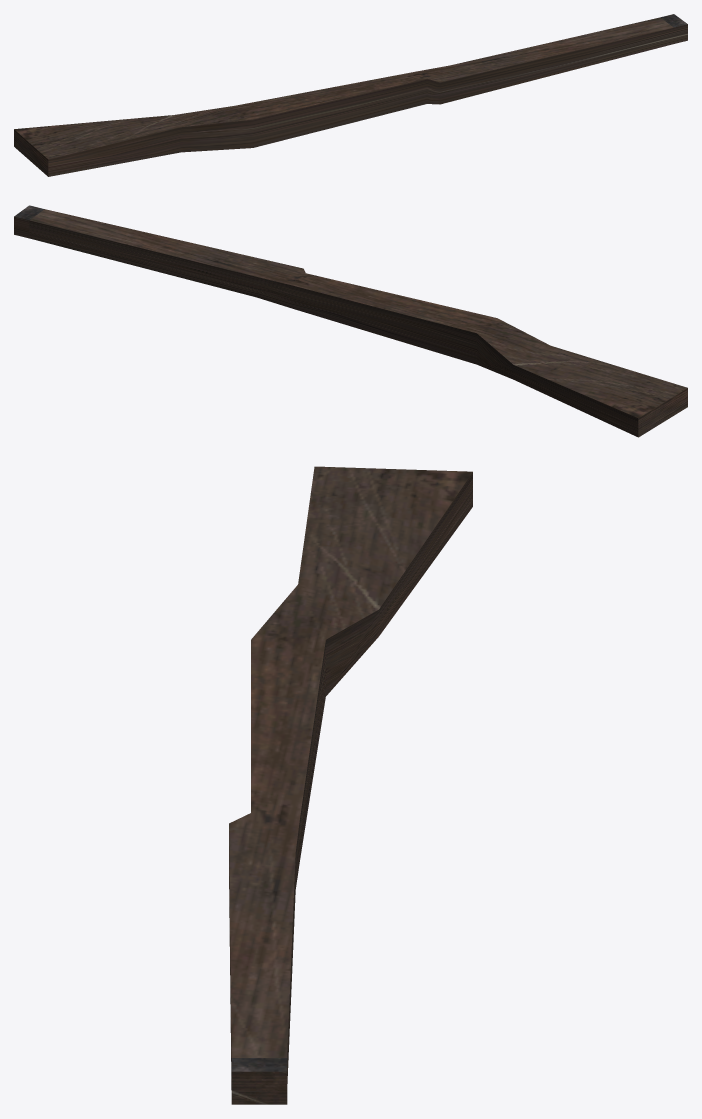
File: weapon_jap_arisaka_type99_bayonet_LOD21.obj
3 renders of one model, top to bottom at view 1: azimuth 30°, elevation 25°; view 2: azimuth 150°, elevation 25°; view 3: azimuth 270°, elevation 25°, orthographic. The views are drawn at different scales.
Visible parts, largest first — view 1: TomGroup_0; view 2: TomGroup_0; view 3: TomGroup_0.
Part boxes in pixels (x1,y1,x2,y2): TomGroup_0: (14,14,687,176); TomGroup_0: (14,205,687,437); TomGroup_0: (229,466,472,1104).
Size of the model in its own units: 122 by 5.35 by 20.78.
1 material, 1 textured.
